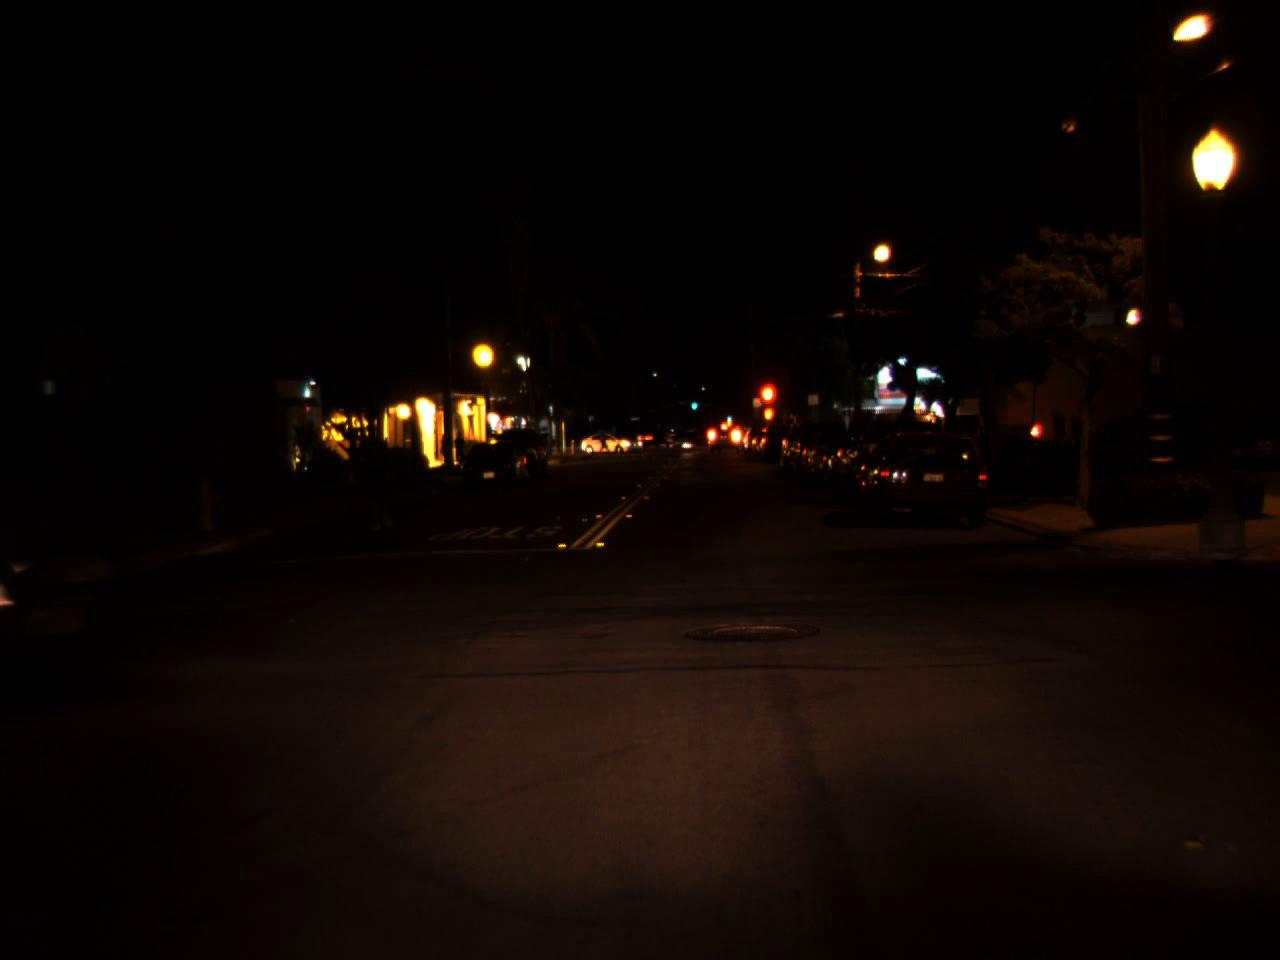go: (689, 396, 698, 411), (725, 409, 732, 421)
stop: (756, 382, 780, 430)
